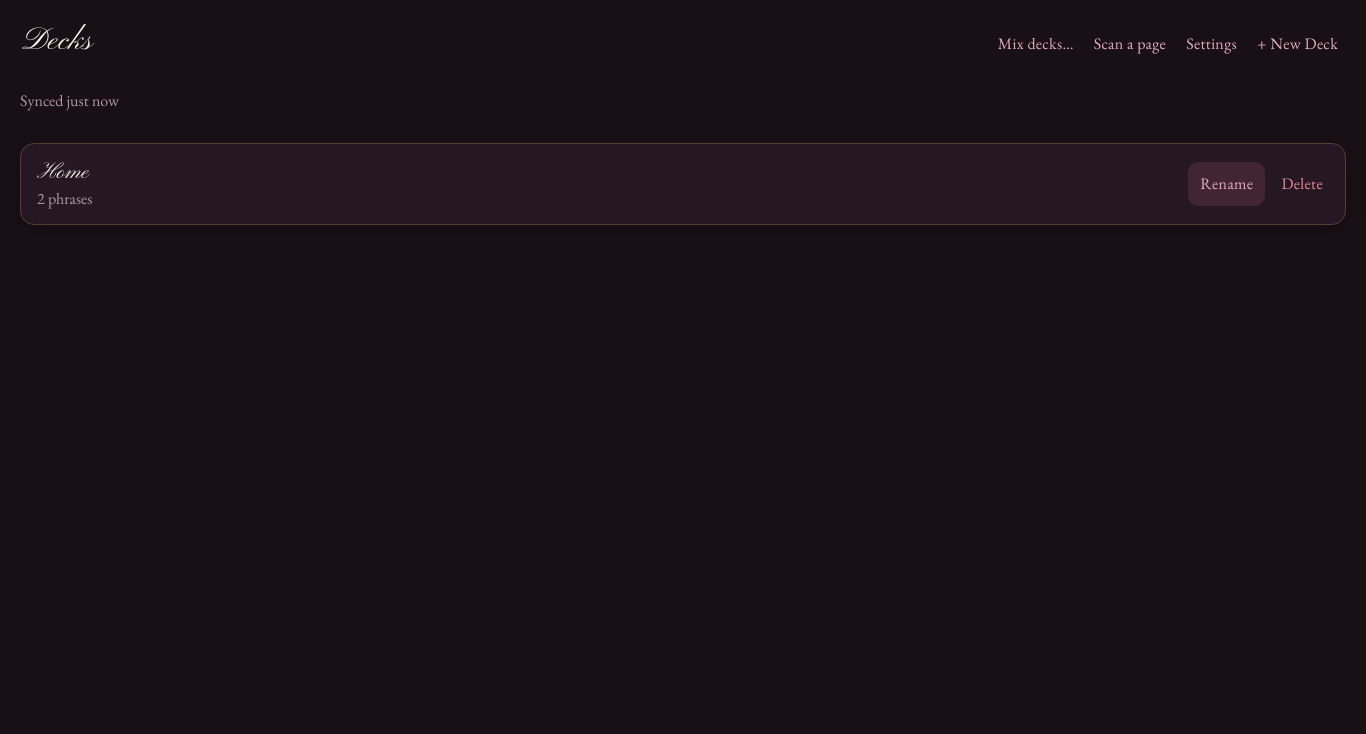
Test case: App — existing audio › a fresh phone, whose library on the server pins a voice › shows the voice the library pins once sync brings it, not the one the audio is in
The width and height of the screenshot is (1366, 734).
Click the button with test id "deck-row-d1" at (63, 172), box [21, 144, 1178, 224]
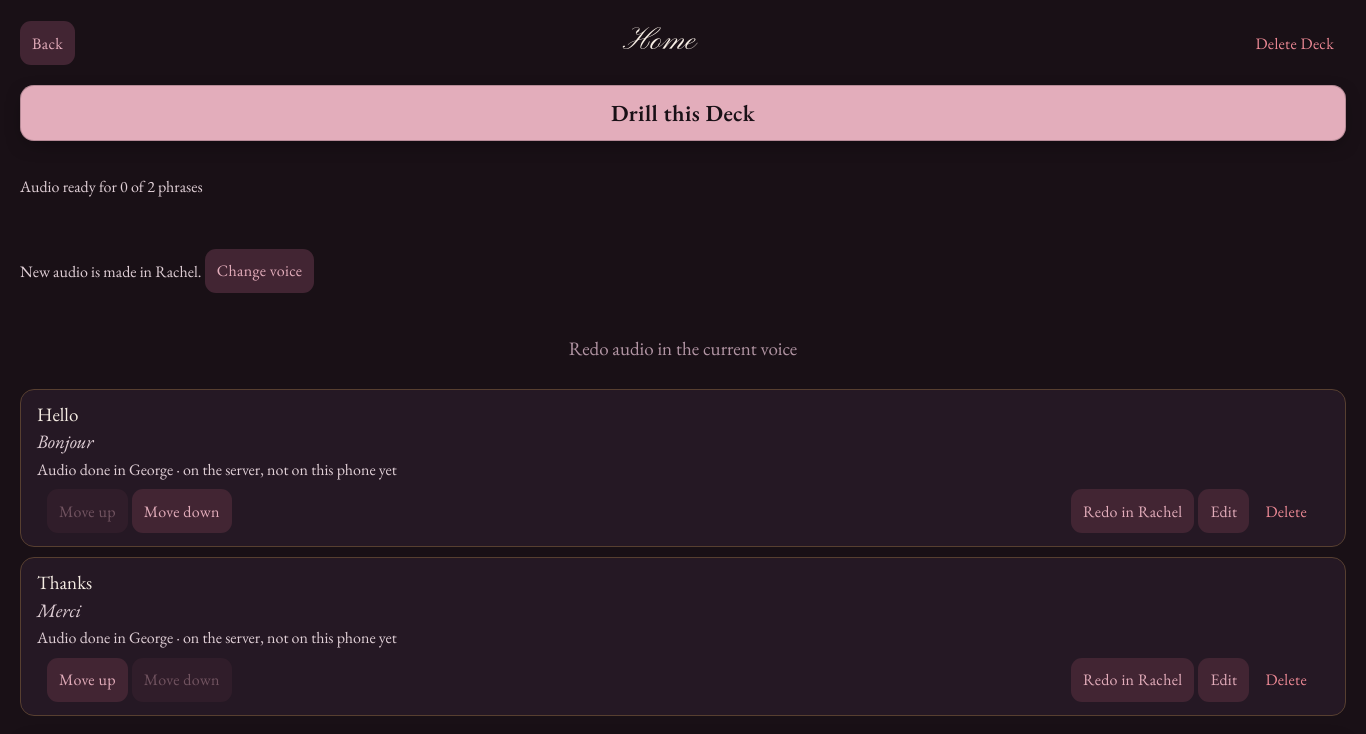
Check: the text with test id "phrase-audio-p1" reads "Audio done in George · on the server, not on this phone yet", box [37, 459, 397, 480]
Check: the element with test id "deck-voice" shows "New audio is made in Rachel", box [20, 260, 205, 281]
